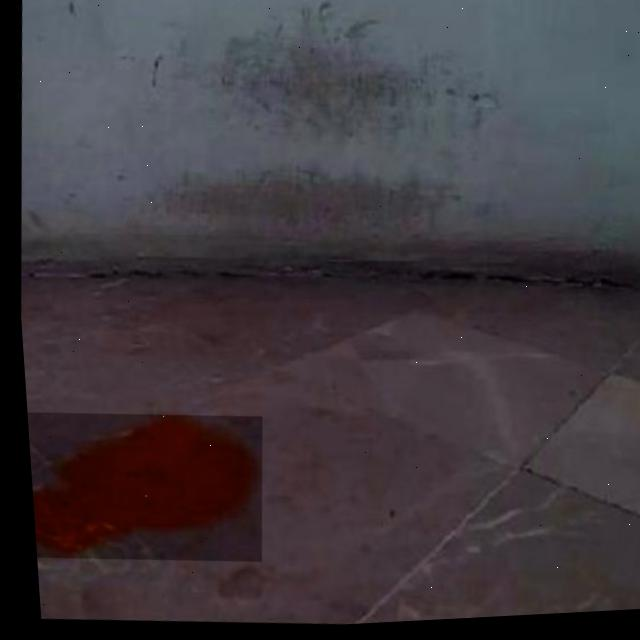spillage: (26, 417, 255, 558)
